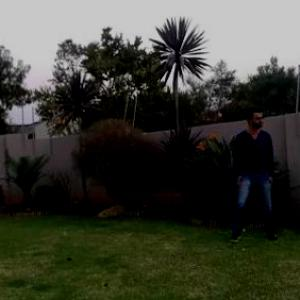follow: (234, 99, 276, 244)
